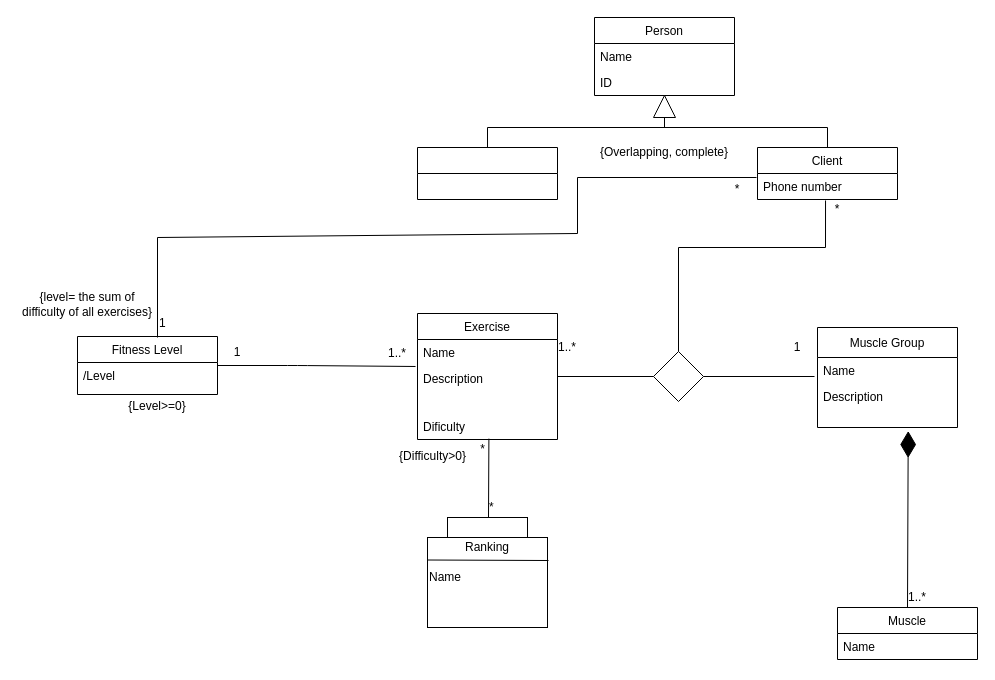
Some shapes in this 995 by 680 pixel diagram are drawn without their labels. Each missing label, with the centre of its shape:
"Admin" belongs at point 487,173.
"Number_of_repetitions" belongs at point 487,527.
